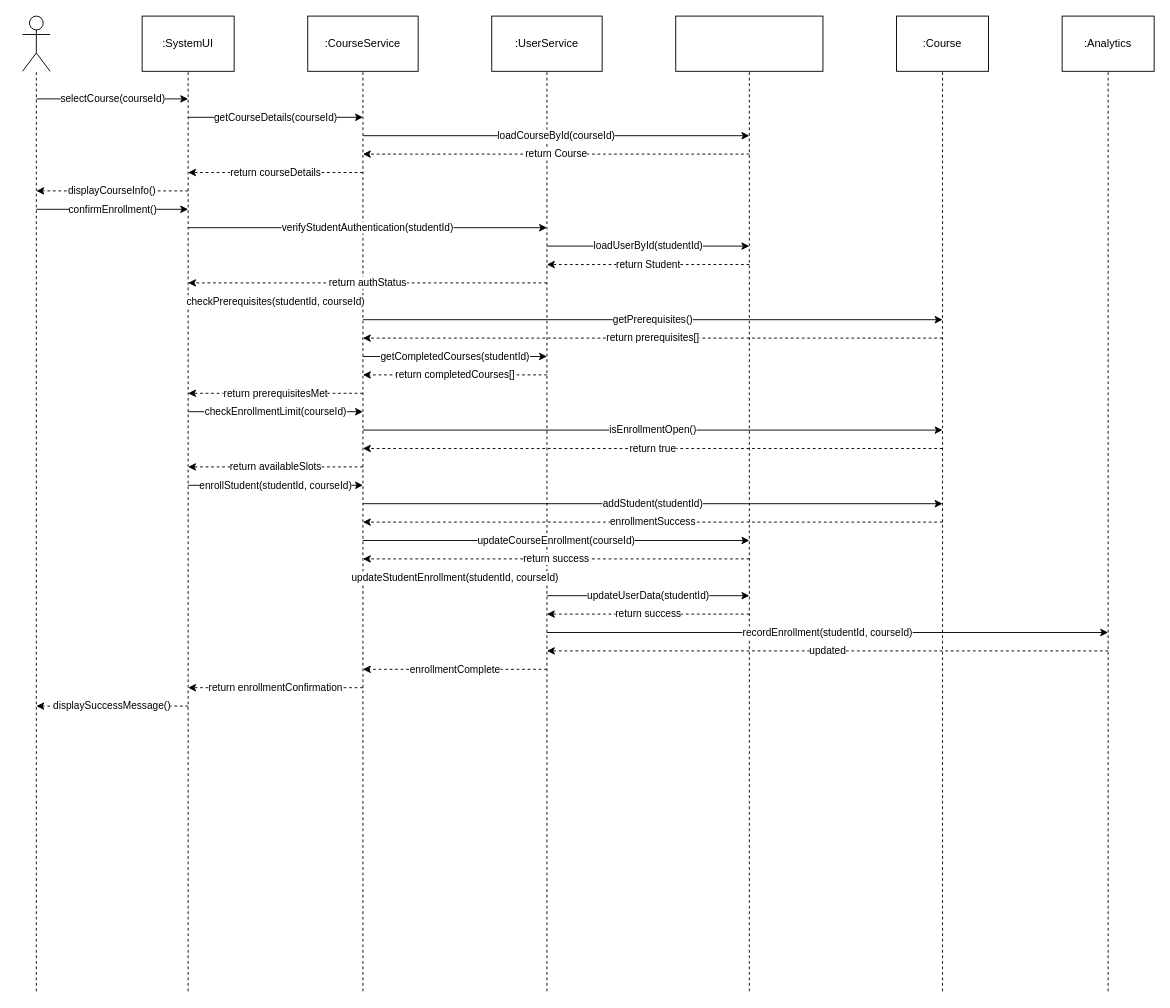
This 1170x1008 diagram has some shape labels left out. Here are the shapes that lost their labels. From the top down, the centre of each, then its label:
the point at 36,43: :Student
the point at 749,43: :JsonDatabaseManager
